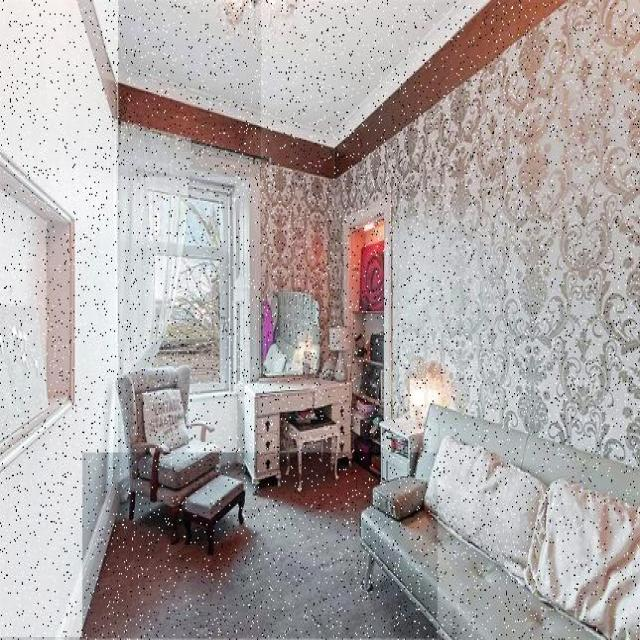Wall: (261, 0, 640, 466), (79, 0, 565, 177), (0, 0, 118, 637), (83, 453, 438, 639), (95, 0, 487, 144), (189, 397, 237, 466)
